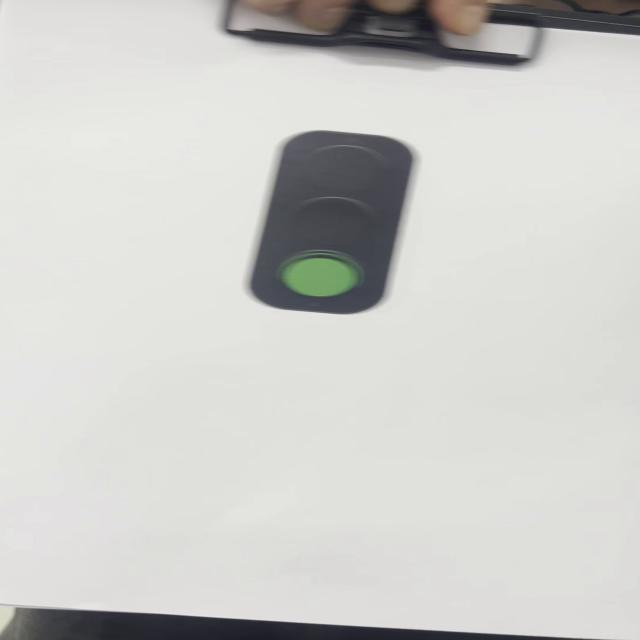green: (256, 122, 404, 317)
